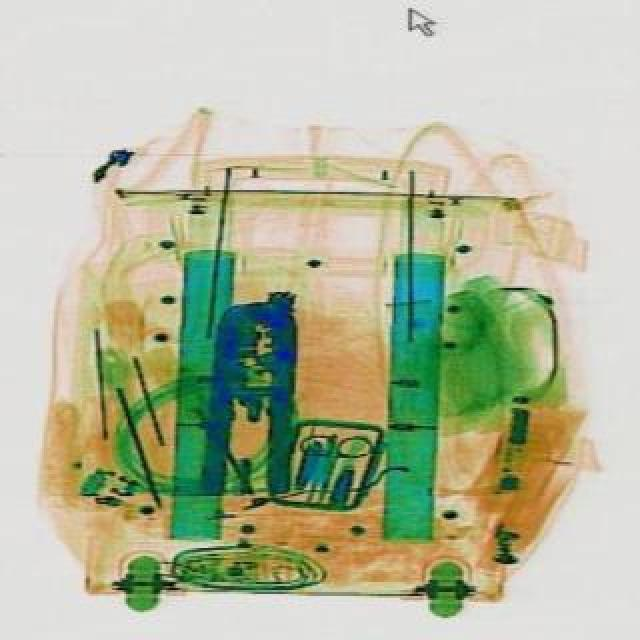pliers: (282, 424, 370, 508)
wrench: (196, 298, 300, 498)
